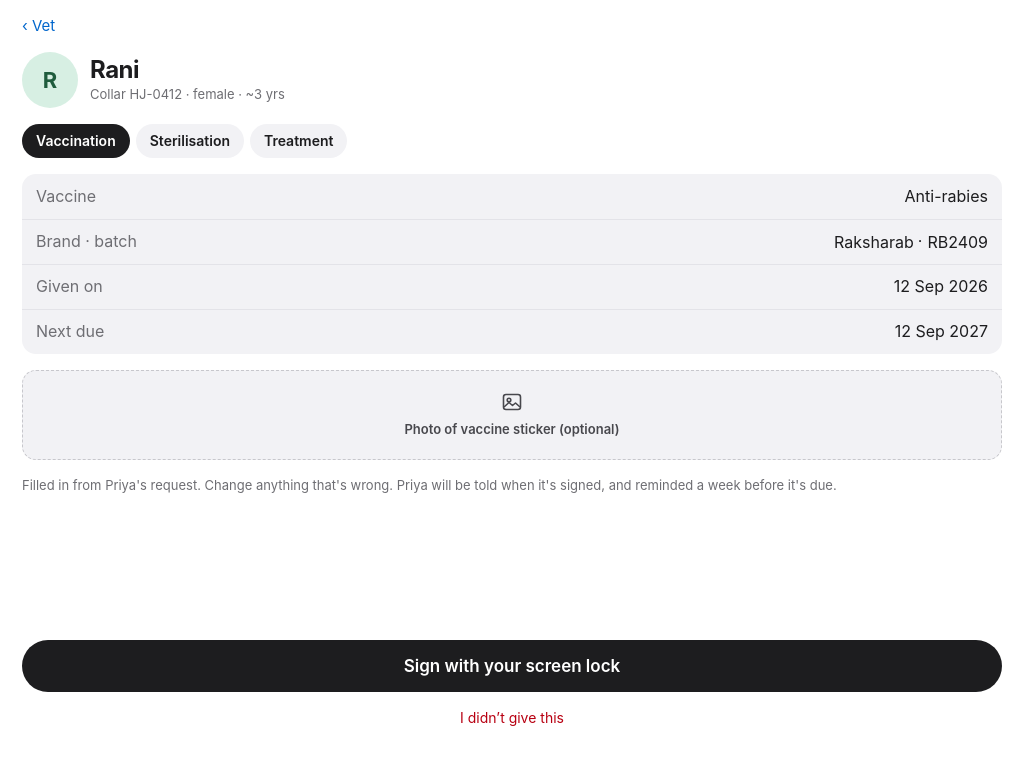
Test: V3 sign a record › is filled in from Priya's request and signs the same draft it hashed
This screenshot has width=1024, height=768.
Expected: the text "Collar HJ-0412 · female · ~3 yrs" is shown, [90,85,285,104]
Expected: the field named "Batch" holds "RB2409", [926,220,988,264]
Click the button "Sign with your screen lock". click: point(512, 666)
box: [22,640,1002,692]
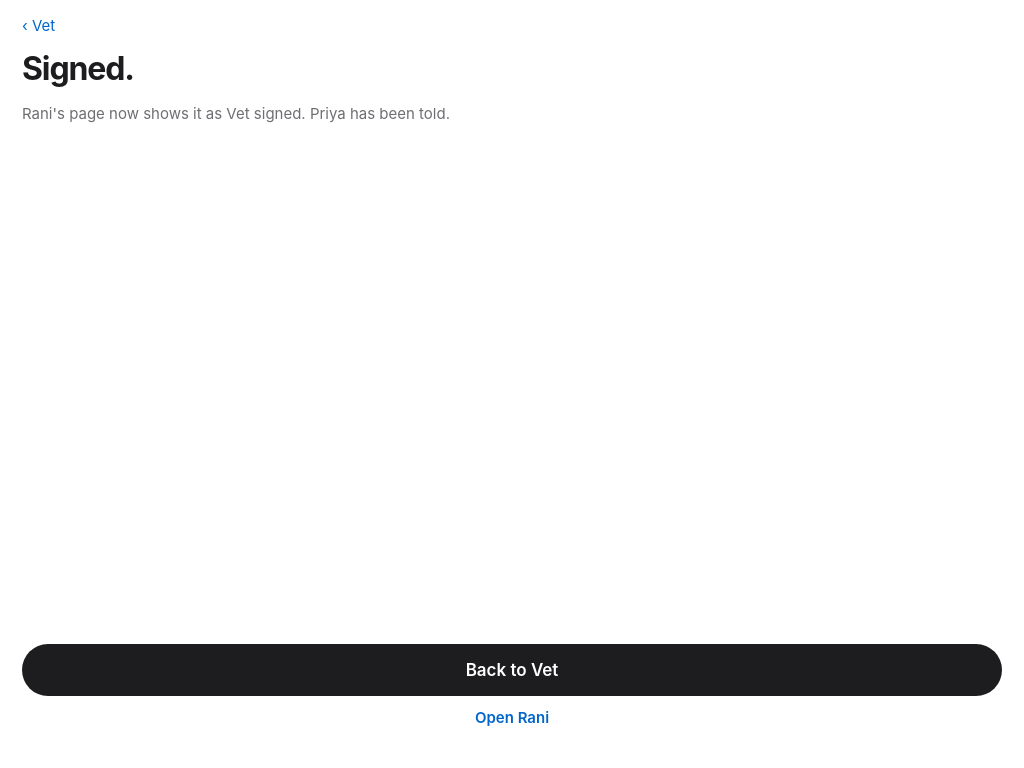
Expected: the heading "Signed." is shown, [22,49,134,88]
